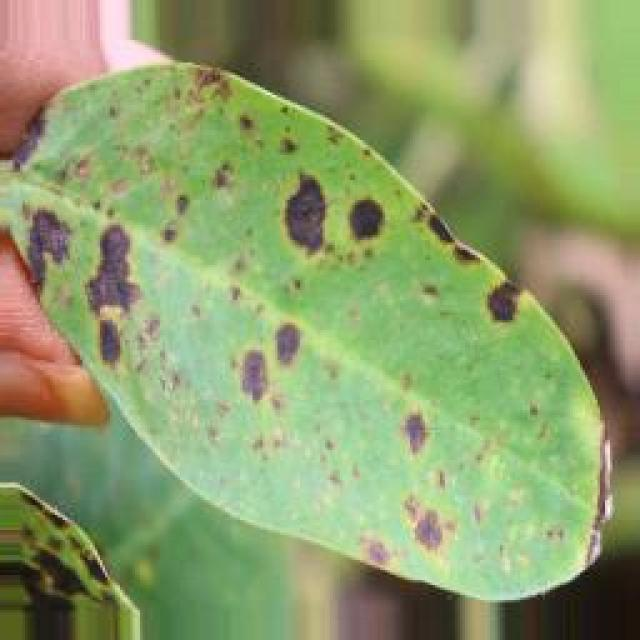Yellowish: (19, 47, 617, 580)
